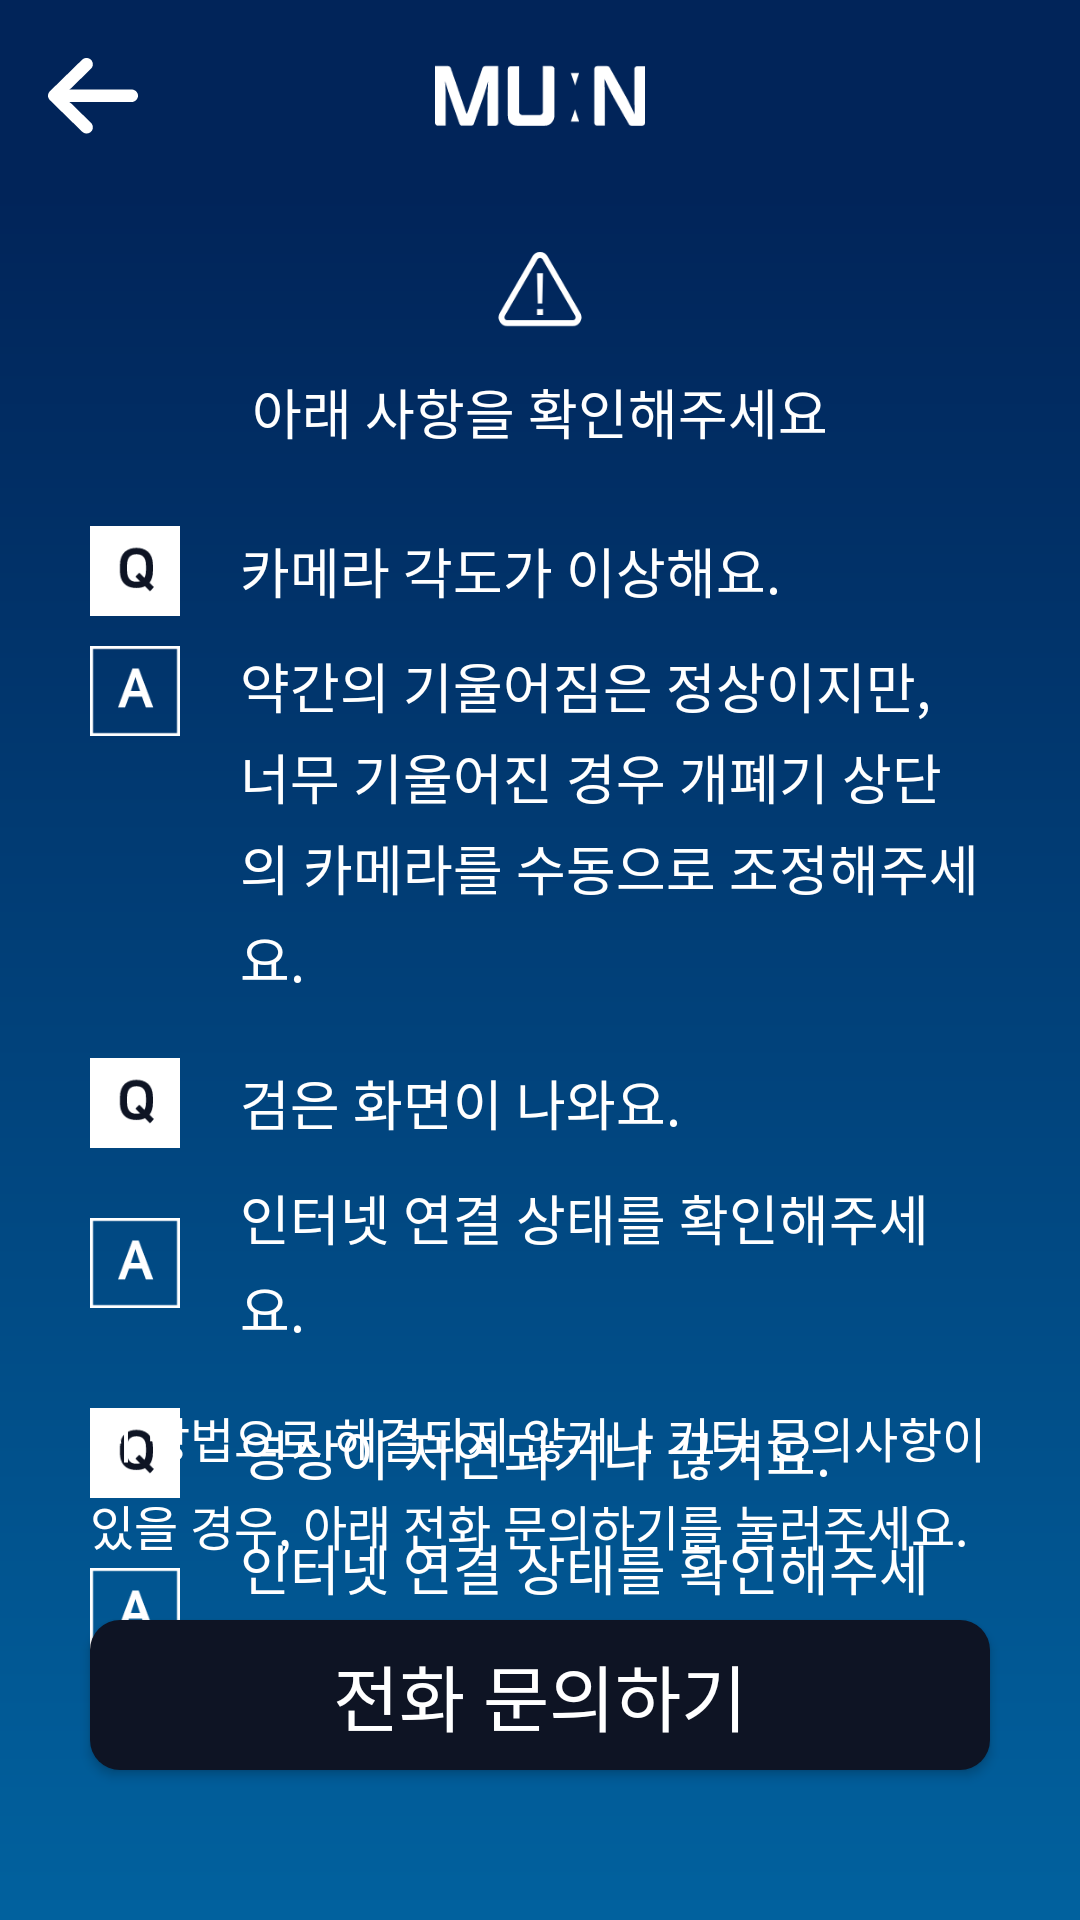

Locate icon controls on the screen. Image size 1080px x 1920px, boxes as box(x1, y1, x2, y2).
back: box(48, 58, 138, 134)
screen check warning: box(498, 252, 582, 327)
